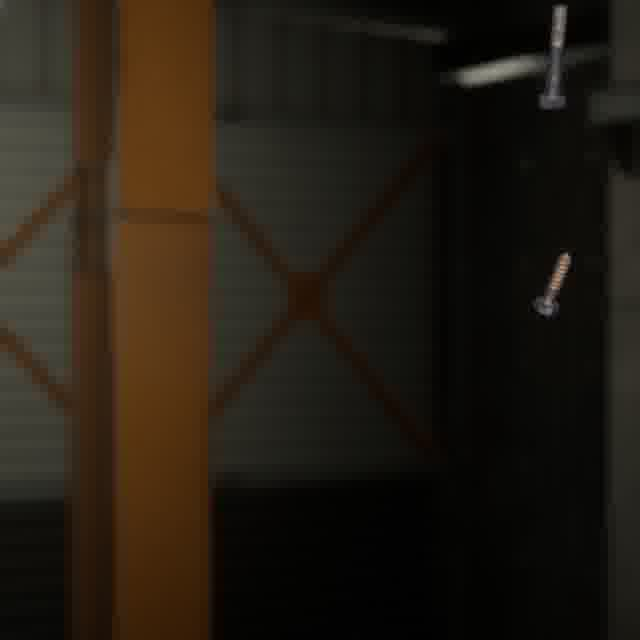bolt: (534, 1, 571, 114), (528, 247, 576, 320)
